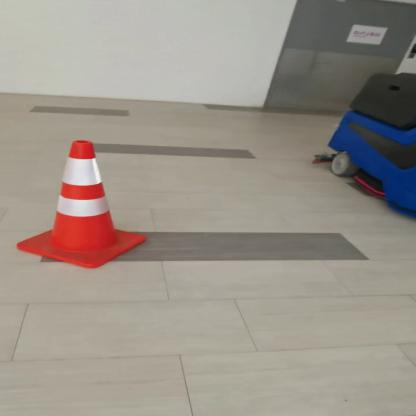cone: (13, 134, 144, 271)
